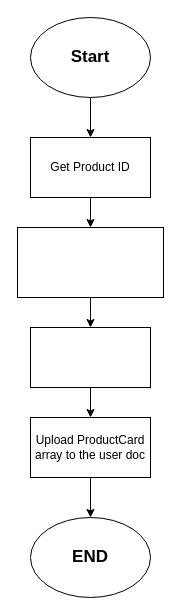
This 181x615 diagram has some shape labels left out. Each missing label, with the centre of its shape:
Create ProductCart array: (90,357)
Get Buyers' customization object from [ProductCustomization]: (90,262)
